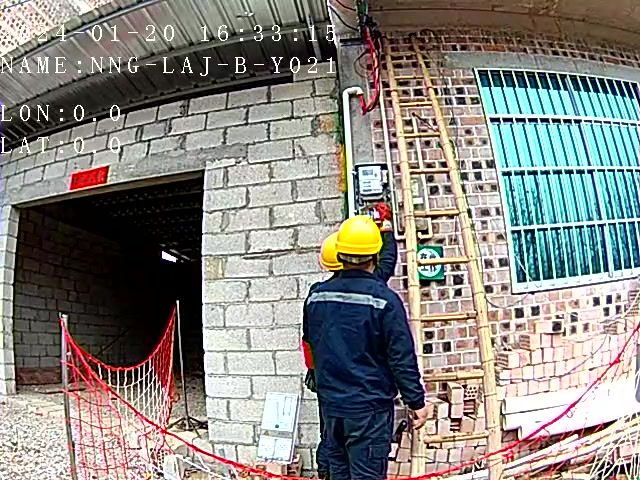halt: (334, 216, 386, 275)
